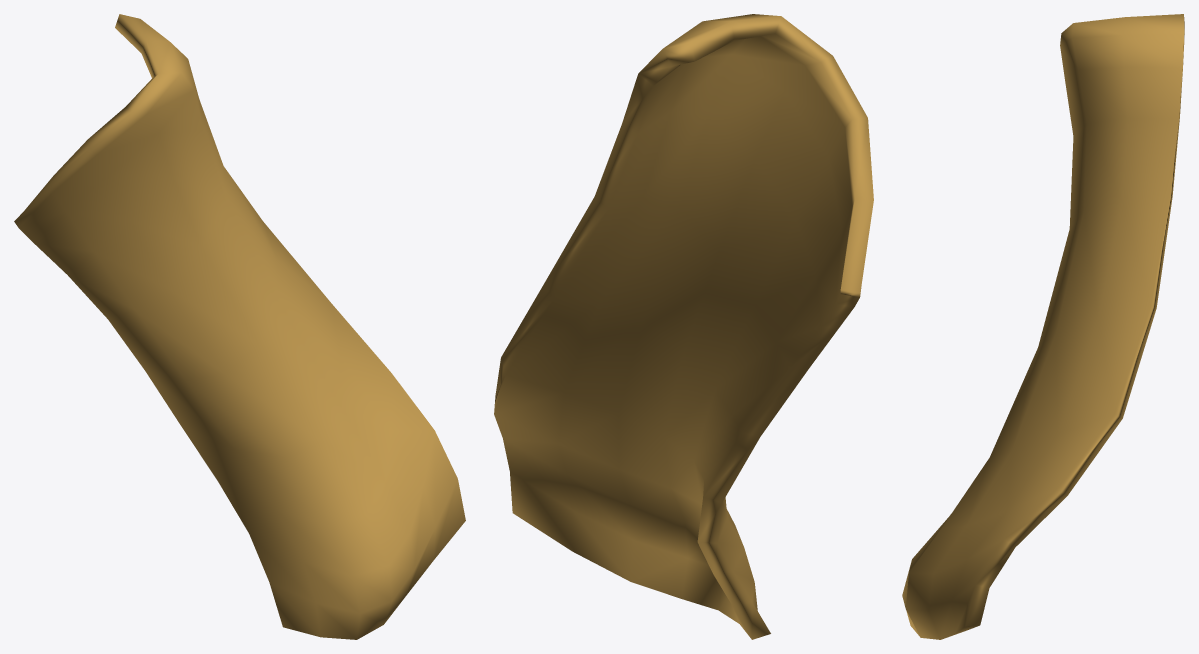
The picture shows the model from 3 angles, left to right: view 1: azimuth 30°, elevation 25°; view 2: azimuth 150°, elevation 25°; view 3: azimuth 270°, elevation 25°; orthographic projection. The views are drawn at different scales.
Visible parts, largest first — view 1: 左侧内侧半月板后半月板胫骨韧带; view 2: 左侧内侧半月板后半月板胫骨韧带; view 3: 左侧内侧半月板后半月板胫骨韧带.
Boxes of the visible parts, x1,y1,x2,y2 form: 左侧内侧半月板后半月板胫骨韧带: (14,14,465,639); 左侧内侧半月板后半月板胫骨韧带: (494,14,873,639); 左侧内侧半月板后半月板胫骨韧带: (902,14,1184,639).
Size of the model in its own units: 0.0199 by 0.0295 by 0.0135.
